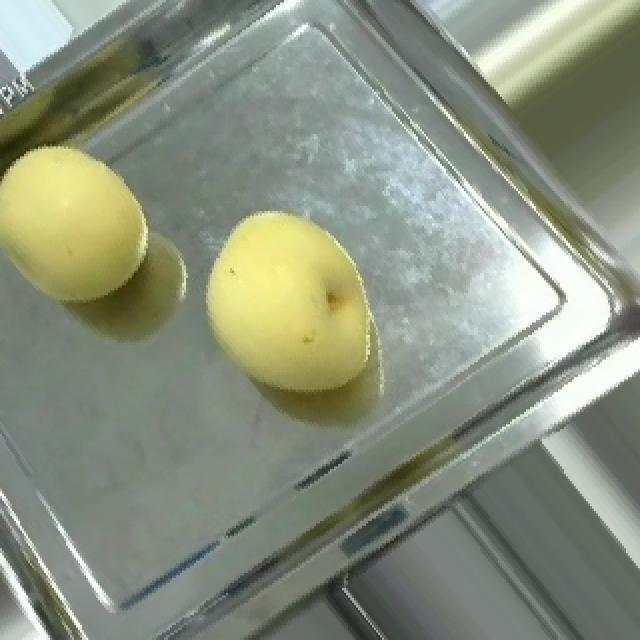Fruit: (178, 191, 392, 422), (0, 126, 170, 325)
